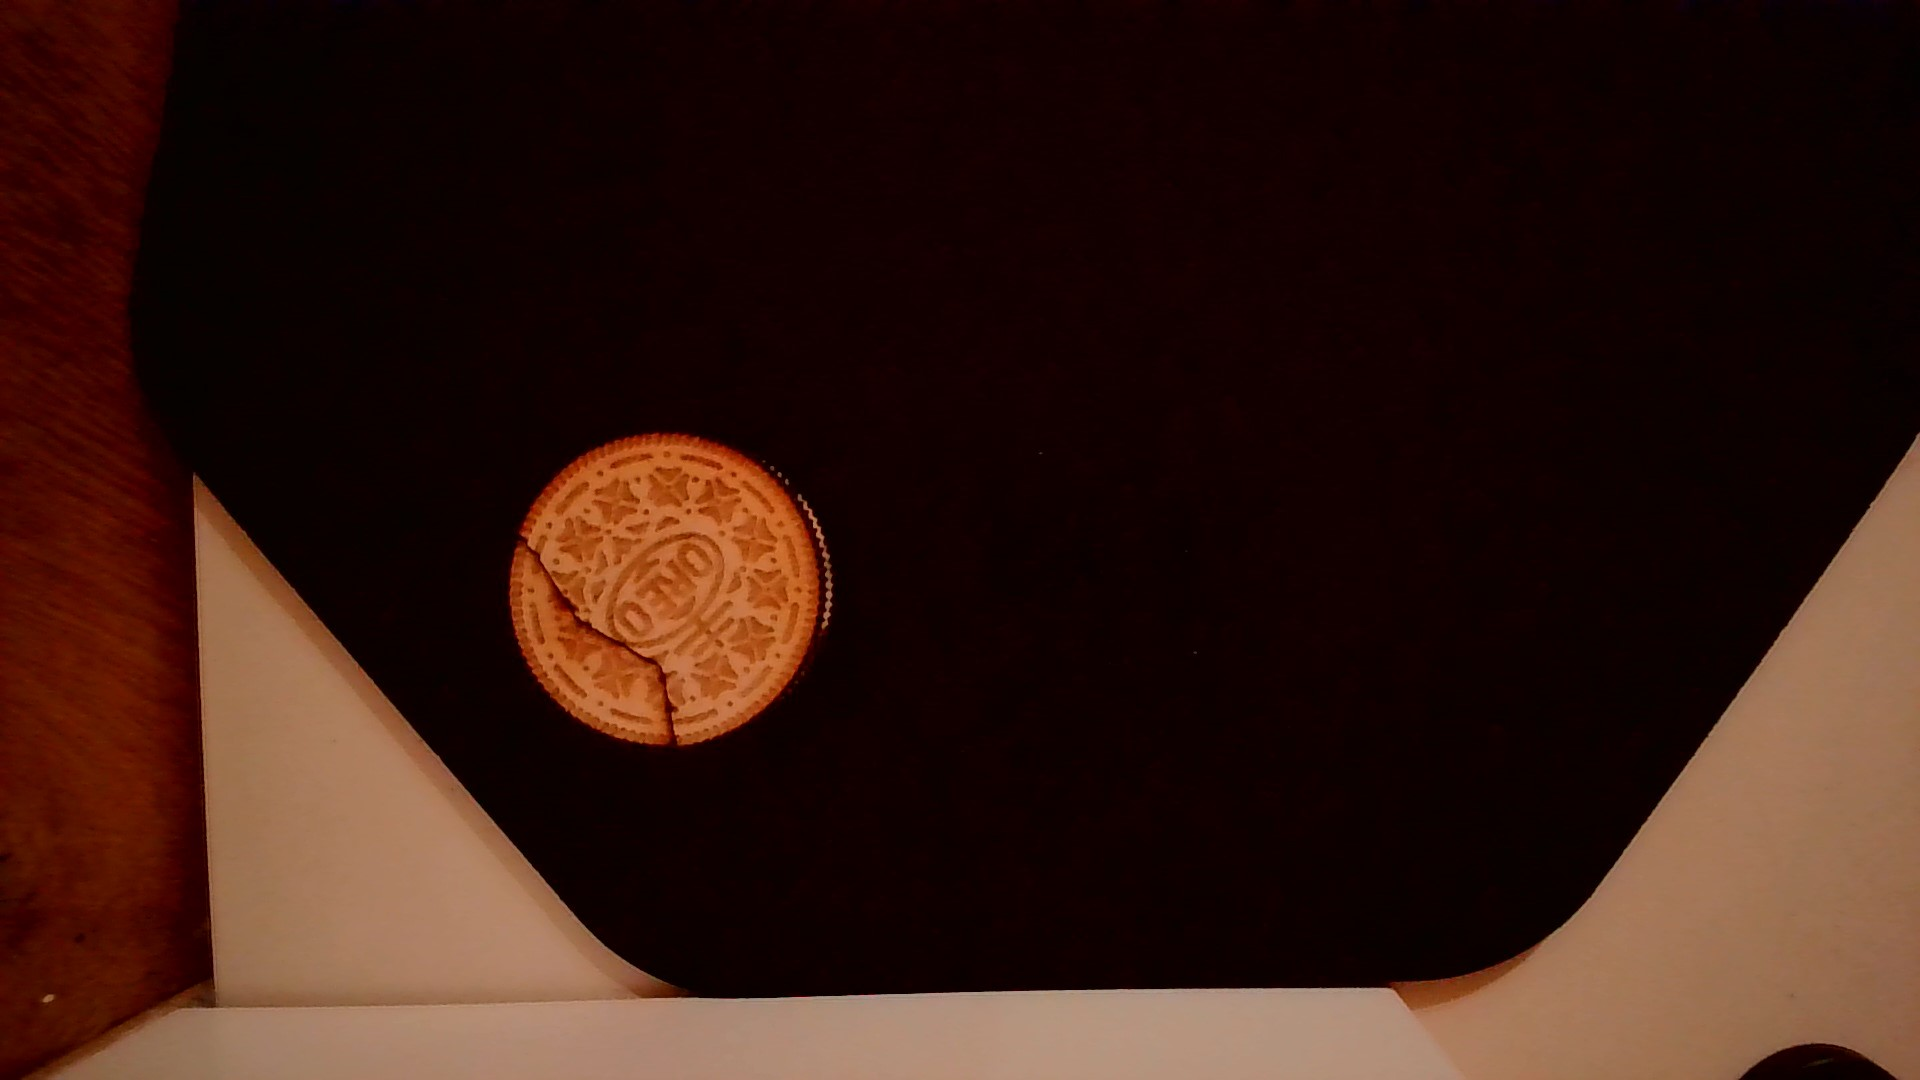Fissure: (506, 517, 696, 749)
Oréo: (501, 427, 841, 752)
